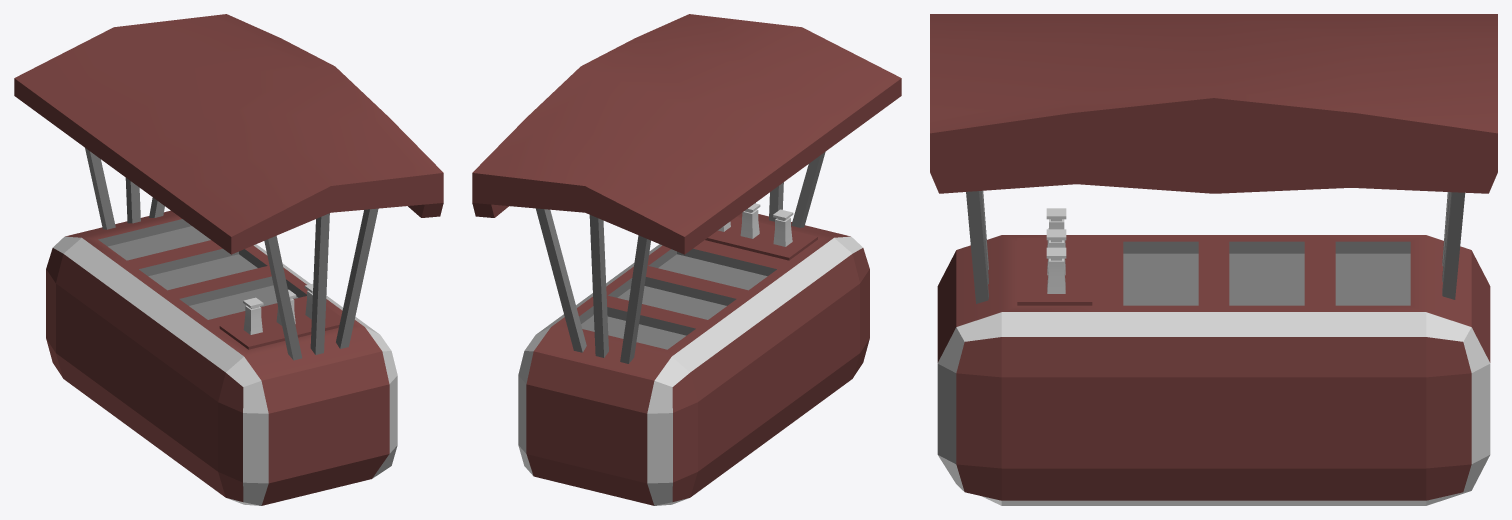
The model's file is IceCreamTrack.fbx.
3 renders of one model, left to right at view 1: azimuth 30°, elevation 25°; view 2: azimuth 150°, elevation 25°; view 3: azimuth 270°, elevation 25°, orthographic. The views are drawn at different scales.
Parts seen in each view (by area): view 1: IceCream; view 2: IceCream; view 3: IceCream.
Part boxes in pixels (x1=…): IceCream: x1=14, y1=14, x2=443, y2=505; IceCream: x1=472, y1=14, x2=901, y2=505; IceCream: x1=930, y1=14, x2=1497, y2=505.
Size of the model in its own units: 17.49 by 26.52 by 30.96.
